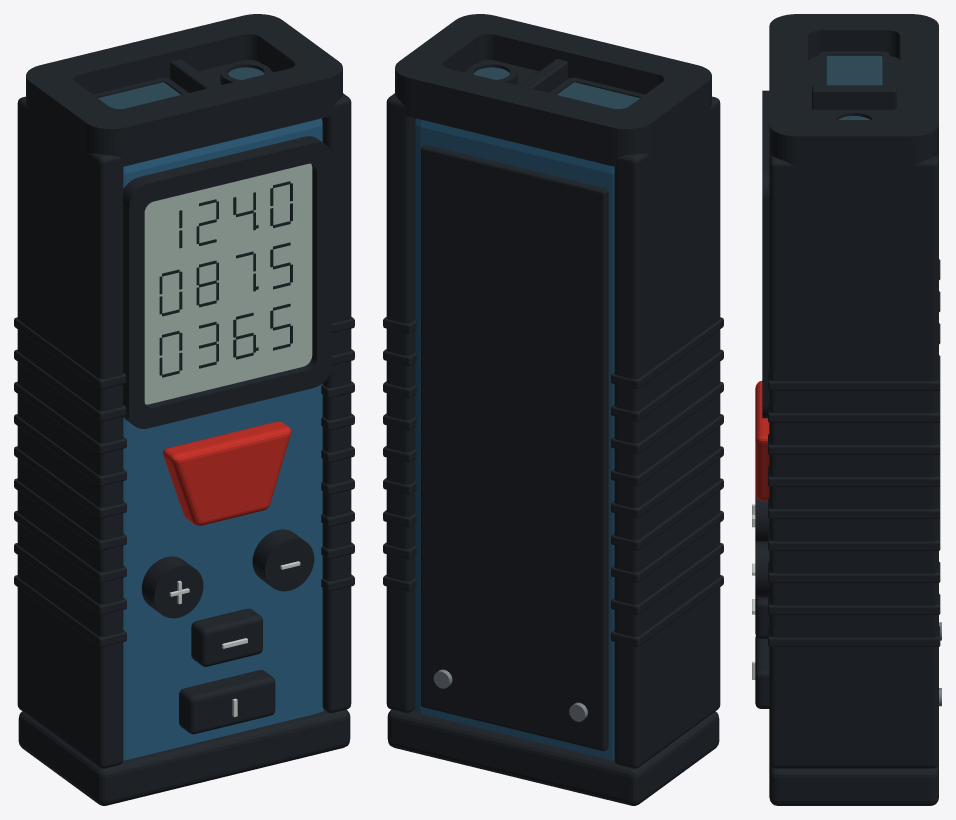
Rendered from full.glb.
The picture shows the model from 3 angles, left to right: view 1: azimuth 30°, elevation 25°; view 2: azimuth 150°, elevation 25°; view 3: azimuth 270°, elevation 25°; orthographic projection.
Visible parts, largest first — view 1: Thick side bumper -0.0185, Closed blue main enclosure, Recessed LCD substrate, Upper optical bay open bumper, Front LCD open bezel, Thick side bumper 0.0185, Closed bottom cap, Large inverted trapezoid measure key, Lower clear power key, Central function key, Minus round key, Plus round key (+11 smaller); view 2: Generic rear finish, Thick side bumper -0.0185, Upper optical bay open bumper, Thick side bumper 0.0185, Closed blue main enclosure, Closed bottom cap, Side grip rib (-0.0185, 3), Side grip rib (-0.0185, 2), Side grip rib (-0.0185, 0), Side grip rib (-0.0185, 1), Side grip rib (-0.0185, 4), Side grip rib (-0.0185, 7) (+5 smaller); view 3: Thick side bumper 0.0185, Upper optical bay open bumper, Closed bottom cap, Front LCD open bezel, Optical divider, Side grip rib (0.0185, 7), Side grip rib (0.0185, 8), Side grip rib (0.0185, 5), Side grip rib (0.0185, 6), Side grip rib (0.0185, 4), Side grip rib (0.0185, 0), Side grip rib (0.0185, 1) (+10 smaller).
Boxes of the visible parts, left/top/right/bottom form: Thick side bumper -0.0185: left=17, top=96, right=123, bottom=768; Closed blue main enclosure: left=123, top=118, right=324, bottom=760; Recessed LCD substrate: left=144, top=163, right=312, bottom=404; Upper optical bay open bumper: left=26, top=14, right=342, bottom=166; Front LCD open bezel: left=123, top=136, right=332, bottom=428; Thick side bumper 0.0185: left=322, top=93, right=351, bottom=713; Closed bottom cap: left=18, top=709, right=350, bottom=805; Large inverted trapezoid measure key: left=163, top=421, right=291, bottom=525; Lower clear power key: left=179, top=670, right=275, bottom=734; Central function key: left=191, top=608, right=262, bottom=666; Minus round key: left=252, top=529, right=314, bottom=591; Plus round key: left=141, top=556, right=203, bottom=618; Generic rear finish: left=421, top=144, right=608, bottom=751; Thick side bumper -0.0185: left=614, top=96, right=720, bottom=768; Upper optical bay open bumper: left=395, top=14, right=711, bottom=166; Thick side bumper 0.0185: left=386, top=93, right=415, bottom=713; Closed blue main enclosure: left=413, top=118, right=614, bottom=760; Closed bottom cap: left=387, top=709, right=719, bottom=805; Side grip rib (-0.0185, 3): left=611, top=478, right=723, bottom=550; Side grip rib (-0.0185, 2): left=611, top=510, right=723, bottom=582; Side grip rib (-0.0185, 0): left=611, top=575, right=723, bottom=647; Side grip rib (-0.0185, 1): left=611, top=543, right=723, bottom=614; Side grip rib (-0.0185, 4): left=611, top=446, right=723, bottom=518; Side grip rib (-0.0185, 7): left=611, top=349, right=723, bottom=421; Thick side bumper 0.0185: left=769, top=155, right=938, bottom=768; Upper optical bay open bumper: left=769, top=14, right=938, bottom=174; Closed bottom cap: left=769, top=763, right=938, bottom=805; Front LCD open bezel: left=762, top=90, right=769, bottom=418; Optical divider: left=812, top=85, right=896, bottom=109; Side grip rib (0.0185, 7): left=768, top=401, right=940, bottom=422; Side grip rib (0.0185, 8): left=768, top=369, right=940, bottom=390; Side grip rib (0.0185, 5): left=768, top=465, right=940, bottom=486; Side grip rib (0.0185, 6): left=768, top=433, right=940, bottom=454; Side grip rib (0.0185, 4): left=768, top=497, right=940, bottom=518; Side grip rib (0.0185, 0): left=768, top=626, right=940, bottom=646; Side grip rib (0.0185, 1): left=768, top=594, right=940, bottom=614.
Bounding box in the file's own units: 0.0415 × 0.105 × 0.0269.
